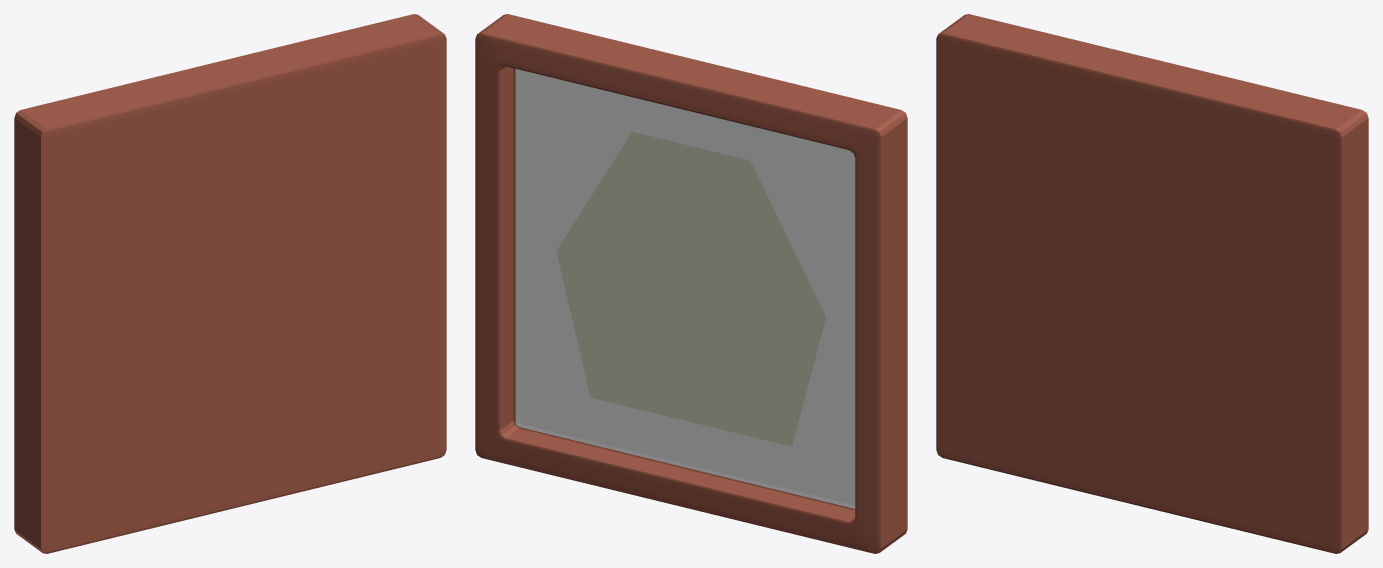
File: tablo67.fbx
The picture shows the model from 3 angles, left to right: view 1: azimuth 30°, elevation 25°; view 2: azimuth 150°, elevation 25°; view 3: azimuth 330°, elevation 25°; orthographic projection.
Visible parts, largest first — view 1: Cube.022; view 2: Cube.022; view 3: Cube.022.
Part boxes in pixels (x1,y1,x2,y2): Cube.022: (14, 14, 446, 553); Cube.022: (475, 14, 907, 553); Cube.022: (936, 14, 1368, 553).
Size of the model in its own units: 702 by 702 by 84.01.
